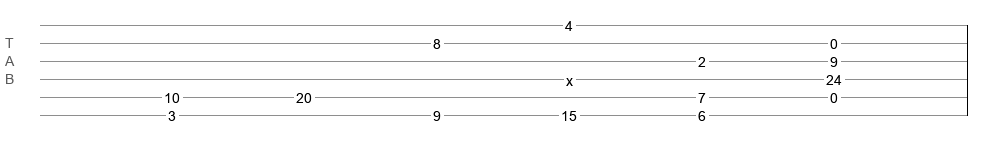0: (830, 36, 838, 46), (830, 90, 838, 100)
10: (164, 90, 180, 100)
15: (561, 108, 577, 118)
2: (698, 54, 706, 64)
20: (296, 90, 312, 100)
24: (826, 72, 842, 82)
3: (168, 108, 176, 118)
4: (565, 18, 573, 28)
6: (698, 108, 706, 118)
7: (698, 90, 706, 100)
8: (433, 36, 441, 46)
9: (433, 108, 441, 118), (830, 54, 838, 64)
x: (566, 73, 573, 81)
